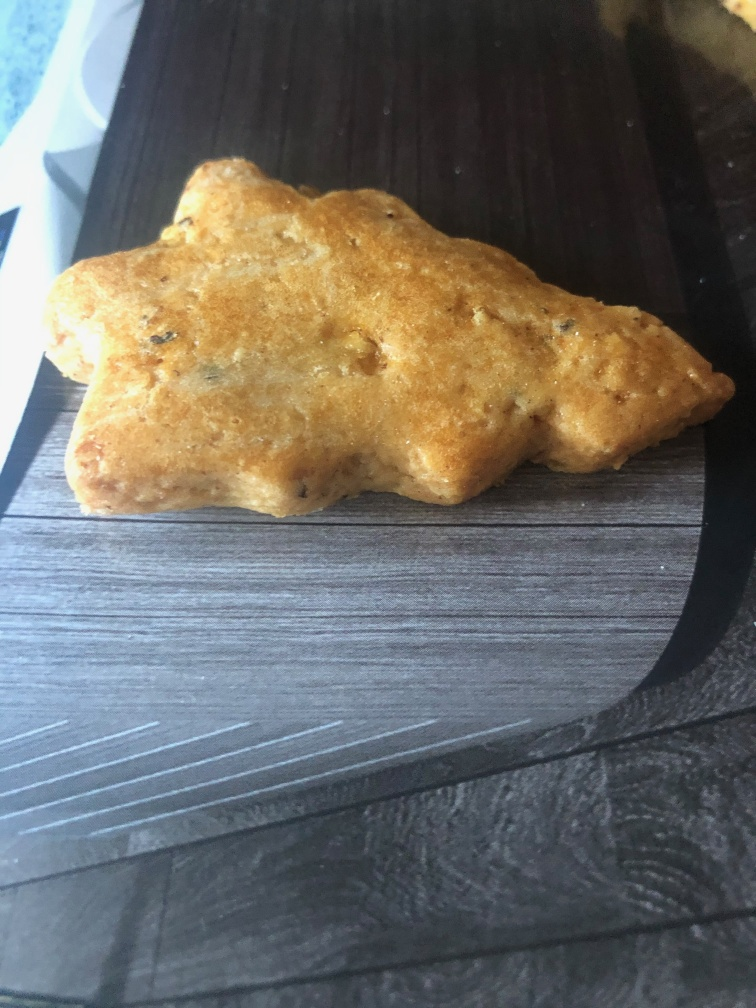christmas tree: (37, 149, 742, 536)
